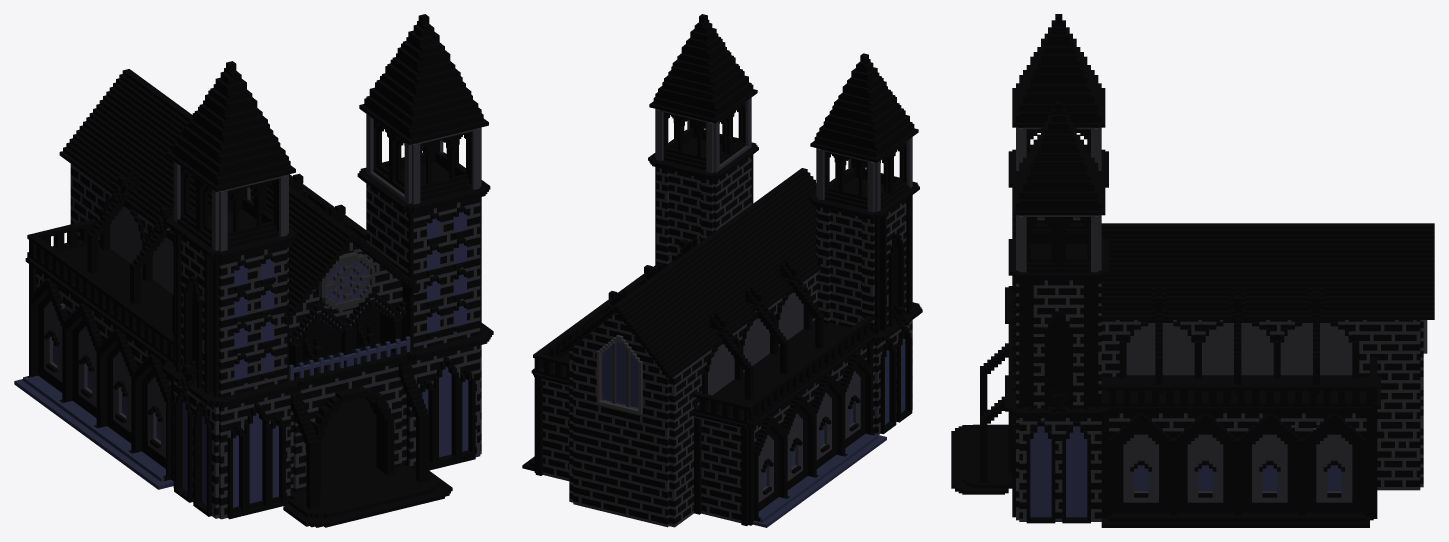
File: church-16-ch_iso.glb
3 renders of one model, left to right at view 1: azimuth 30°, elevation 25°; view 2: azimuth 150°, elevation 25°; view 3: azimuth 270°, elevation 25°, orthographic. The views are drawn at different scales.
Parts seen in each view (by area): view 1: ch_iso; view 2: ch_iso; view 3: ch_iso.
Part boxes in pixels (box(x1,y1,x2,y2)): ch_iso: box(14, 14, 493, 527); ch_iso: box(522, 14, 922, 527); ch_iso: box(951, 14, 1434, 527).
Size of the model in its own units: 8.8 by 12.4 by 13.5.
Materials: 1 (1 with a texture image).
